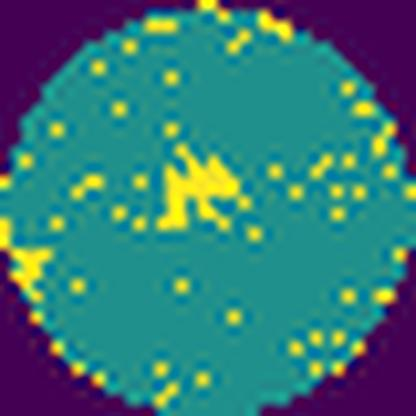Center: (157, 145, 256, 238)
